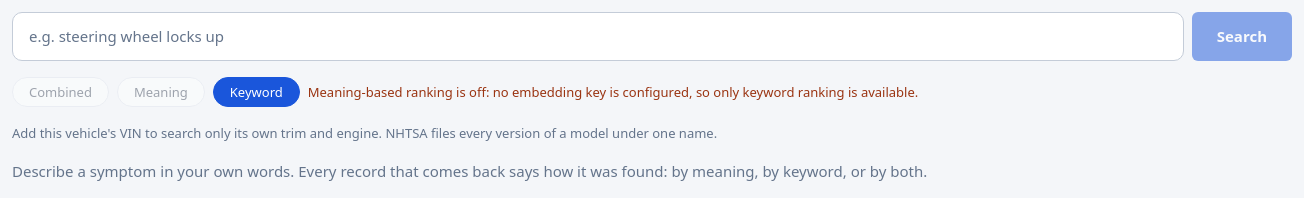
Scenario: SearchPage › starts in keyword mode and says nothing matched when the list is empty
Type "unicorn horn" into the field named "Search phrase" at (598,37), box [12, 12, 1184, 61]
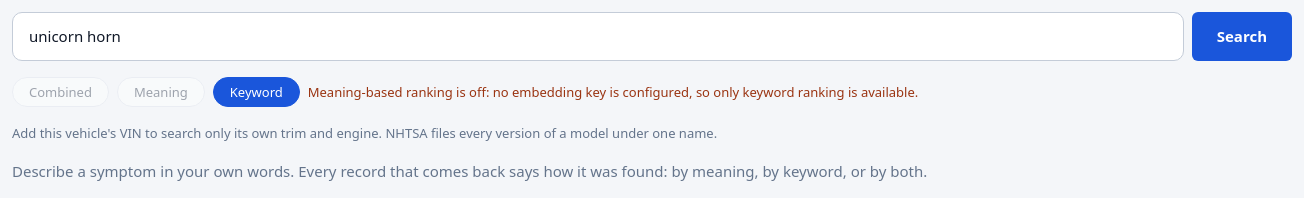
Submit the form with test id "search-box", box [12, 12, 1292, 61]
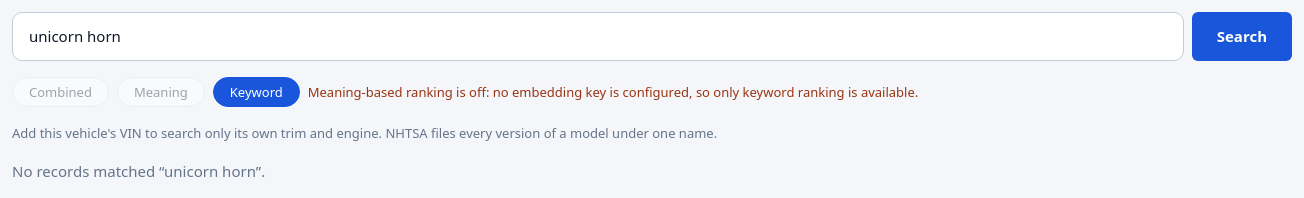
Check: the text with test id "search-empty" shows "unicorn horn", box [164, 160, 256, 180]
